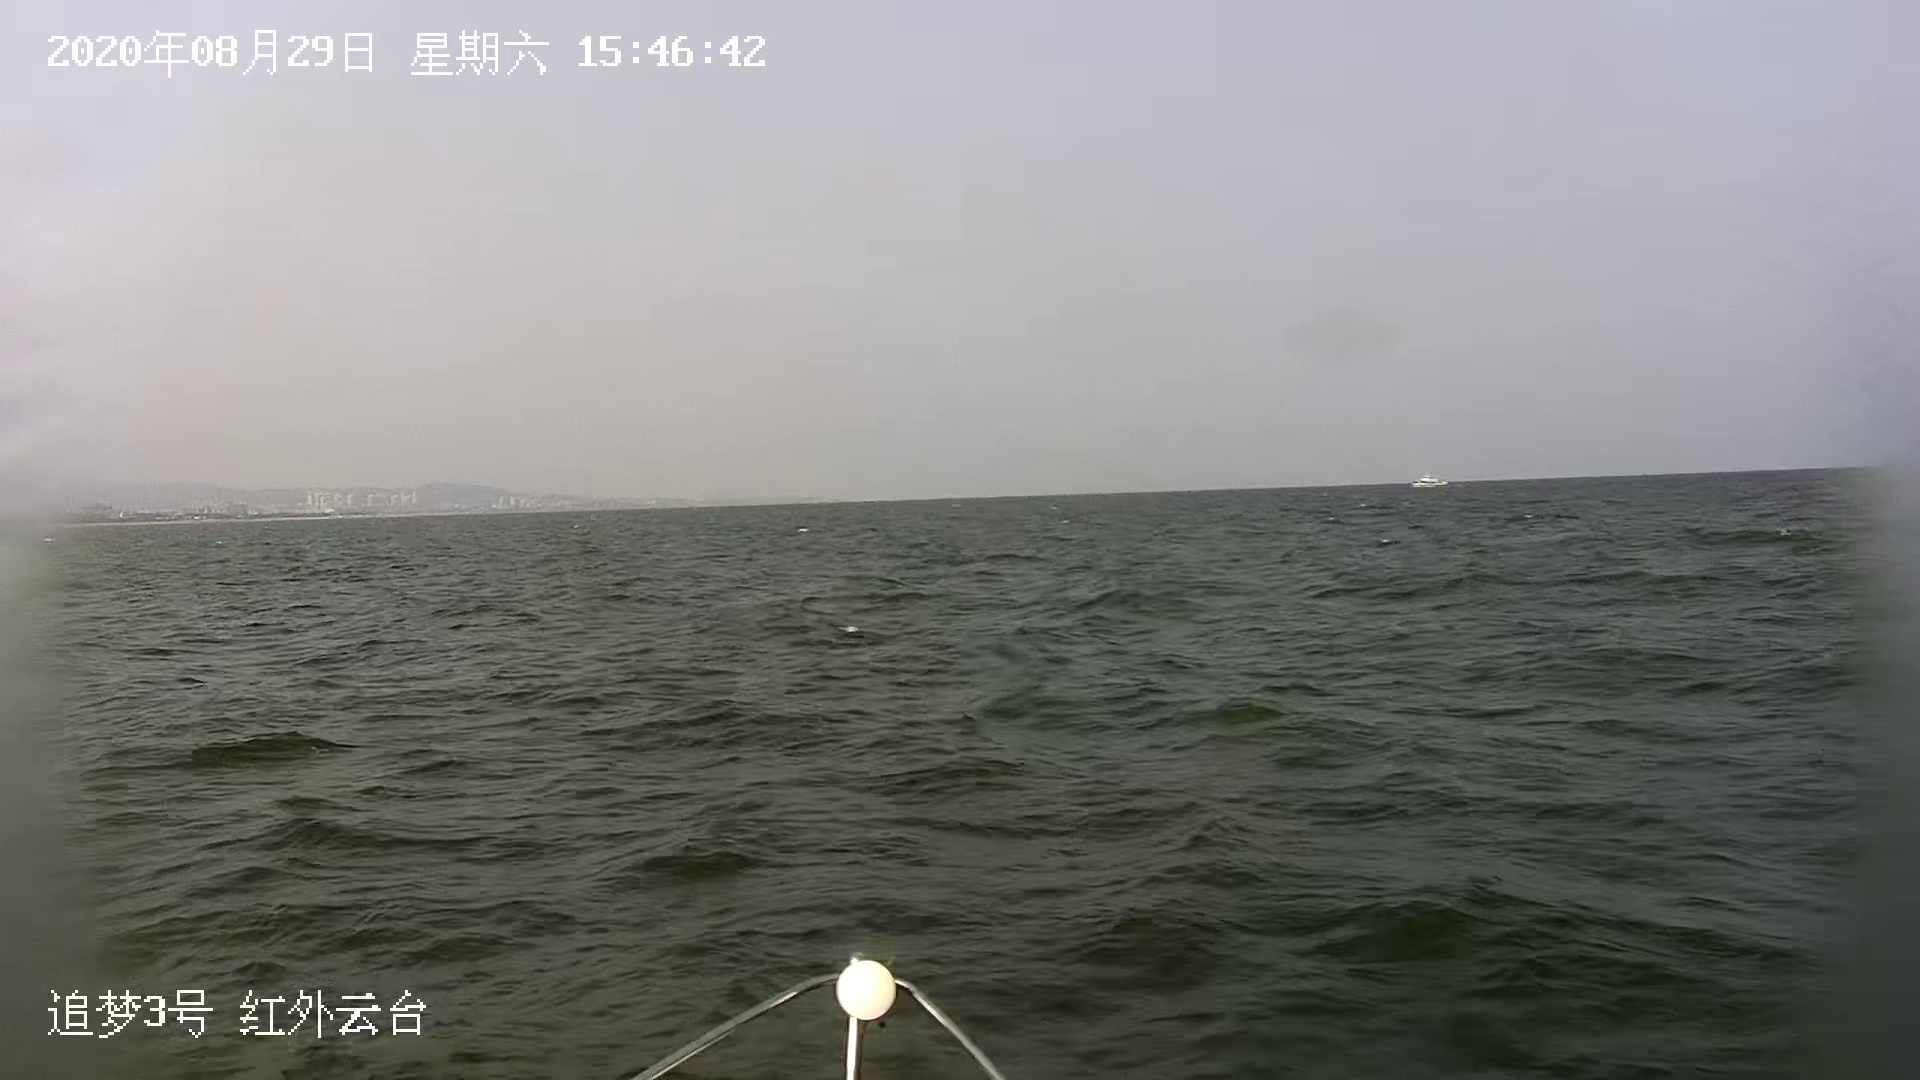barrier: (1412, 471, 1451, 491)
coast: (1, 463, 810, 527)
